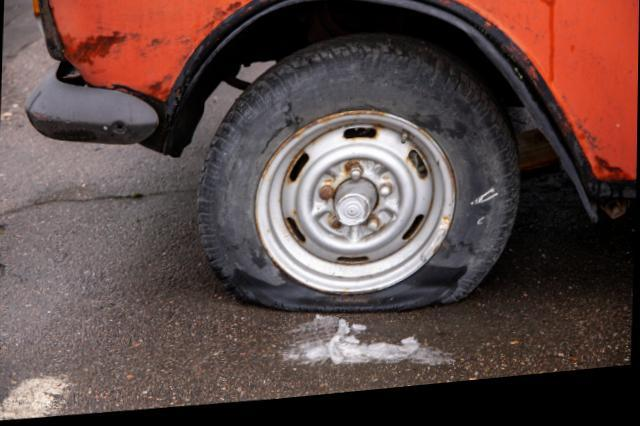tire flat: (195, 40, 520, 320)
